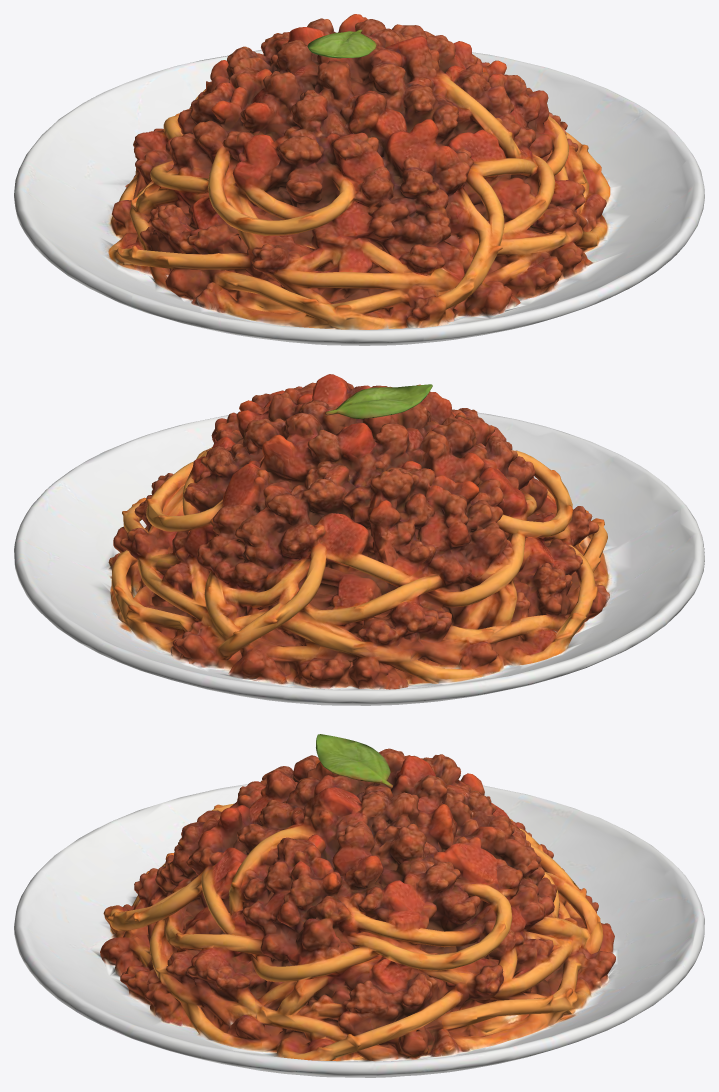
Rendered from pasta_0.glb.
3 views of the same model, one above another, from view 1: azimuth 30°, elevation 25°; view 2: azimuth 150°, elevation 25°; view 3: azimuth 270°, elevation 25° (orthographic).
Parts seen in each view (by area): view 1: comida; view 2: comida; view 3: comida.
Part boxes in pixels (x1,y1,x2,y2): comida: [14, 14, 704, 345]; comida: [14, 374, 704, 705]; comida: [14, 734, 704, 1077].
Bounding box in the file's own units: 0.2698 × 0.0956 × 0.27.
1 material, 1 textured.
